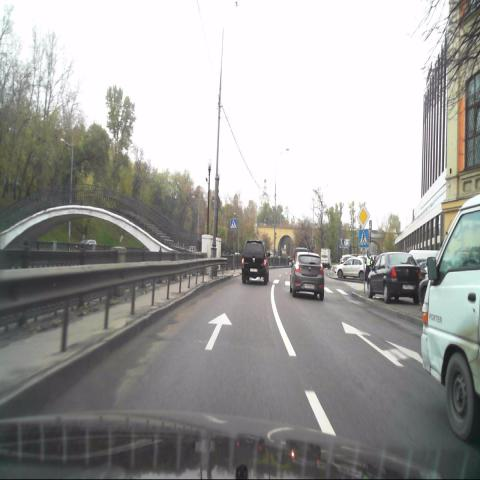2_1: (357, 204, 369, 228)
5_19_1: (358, 228, 370, 247), (230, 217, 236, 231)
